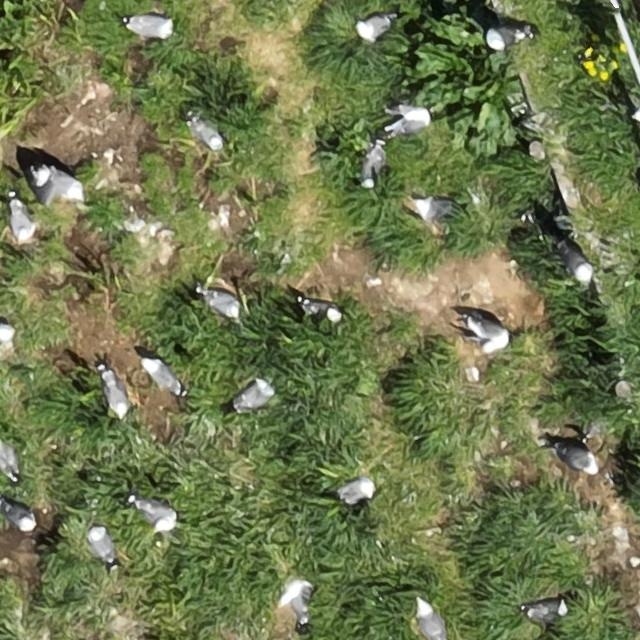umineko: (34, 162, 84, 204), (274, 568, 310, 618), (412, 194, 462, 228), (556, 446, 600, 472), (147, 360, 181, 392), (469, 318, 507, 346), (139, 502, 177, 529), (106, 374, 129, 416), (126, 15, 170, 36), (236, 382, 271, 408), (565, 249, 592, 281), (392, 110, 431, 132), (89, 529, 114, 563), (5, 504, 35, 532), (207, 292, 241, 316), (192, 120, 221, 148), (526, 602, 566, 622), (418, 606, 442, 639), (339, 476, 372, 499), (358, 15, 391, 38), (10, 204, 31, 240), (488, 27, 522, 48), (302, 299, 336, 318), (2, 442, 20, 476), (0, 321, 11, 345)
